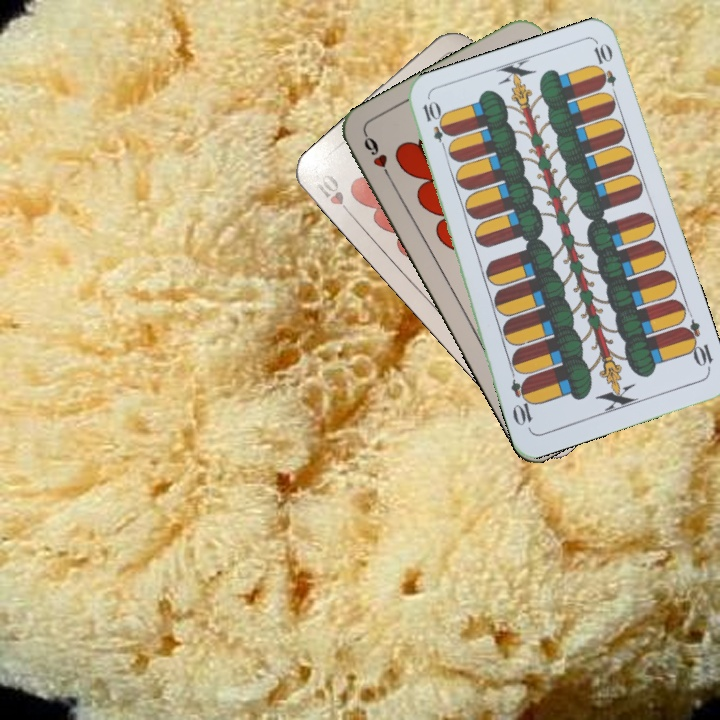E10: (677, 316, 716, 374), (418, 97, 452, 155)
H10: (309, 170, 357, 222)
H9: (359, 130, 395, 185)
